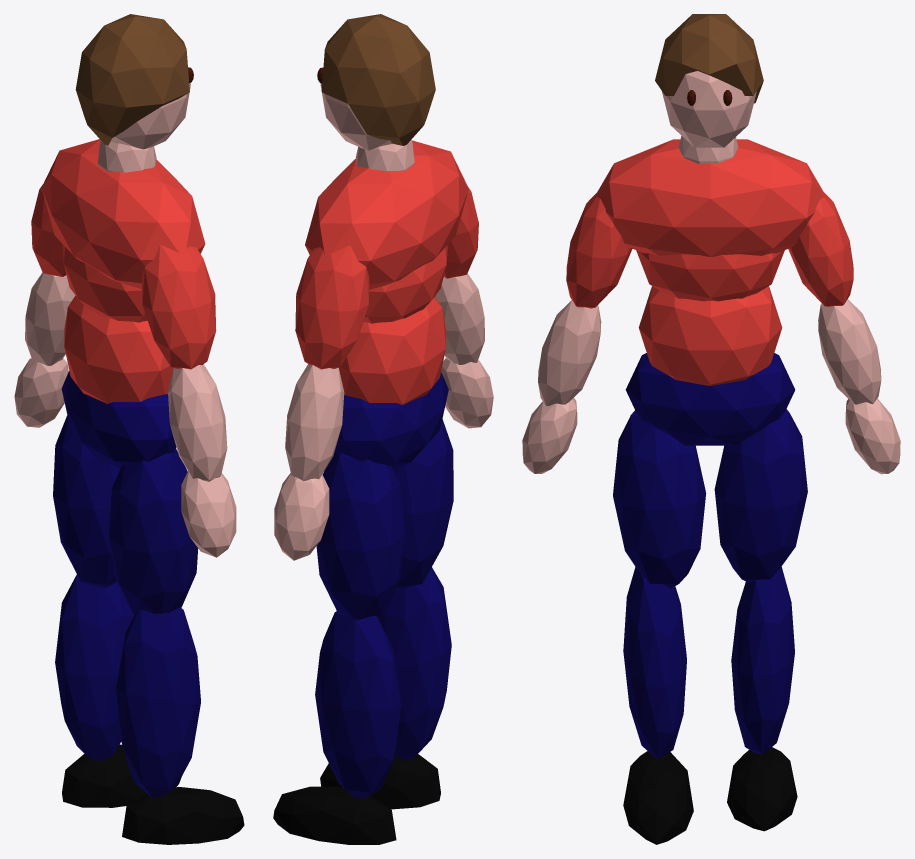
The model's file is avatar.gltf.
The picture shows the model from 3 angles, left to right: view 1: azimuth 30°, elevation 25°; view 2: azimuth 150°, elevation 25°; view 3: azimuth 270°, elevation 25°; orthographic projection. The views are drawn at different scales.
Parts seen in each view (by area): view 1: Caja torácica sup, Pierna D, Muslo I, Pierna I, Pelo, Estómago, Muslo D, Bíceps D, Pelvis, Pie I, Antebrazo D, Mano D (+7 smaller); view 2: Caja torácica sup, Pierna I, Muslo D, Pelo, Pierna D, Estómago, Bíceps I, Muslo I, Pelvis, Pie D, Antebrazo I, Mano I (+7 smaller); view 3: Caja torácica sup, Muslo I, Muslo D, Estómago, Pelvis, Pierna D, Pierna I, Pelo, Caja torácica inf, Pie I, Bíceps D, Antebrazo I (+7 smaller).
Part boxes in pixels (x1,y1,x2,y2): Caja torácica sup: [41, 139, 205, 288]; Pierna D: [116, 607, 200, 797]; Muslo I: [109, 449, 198, 615]; Pierna I: [55, 574, 133, 760]; Pelo: [75, 14, 189, 145]; Estómago: [64, 295, 173, 403]; Muslo D: [53, 415, 120, 588]; Bíceps D: [141, 245, 216, 369]; Pelvis: [61, 371, 176, 467]; Pie I: [122, 787, 244, 844]; Antebrazo D: [168, 364, 227, 481]; Mano D: [181, 471, 236, 557]; Caja torácica sup: [305, 140, 468, 289]; Pierna I: [315, 610, 401, 798]; Muslo D: [316, 451, 405, 619]; Pelo: [321, 14, 435, 145]; Pierna D: [378, 567, 451, 759]; Estómago: [338, 296, 445, 404]; Bíceps I: [295, 245, 369, 369]; Muslo I: [392, 419, 453, 590]; Pelvis: [335, 372, 448, 468]; Pie D: [273, 786, 396, 844]; Antebrazo I: [285, 364, 344, 481]; Mano I: [274, 473, 329, 560]; Caja torácica sup: [594, 139, 827, 256]; Muslo I: [613, 410, 706, 588]; Muslo D: [714, 409, 807, 583]; Estómago: [638, 286, 782, 385]; Pelvis: [625, 353, 795, 445]; Pierna D: [623, 567, 686, 759]; Pierna I: [731, 567, 794, 754]; Pelo: [655, 14, 763, 103]; Caja torácica inf: [636, 250, 784, 301]; Pie I: [623, 751, 693, 844]; Bíceps D: [566, 193, 632, 308]; Antebrazo I: [818, 299, 881, 404].
Bounding box in the file's own units: 0.3512 × 1.86 × 0.805.
